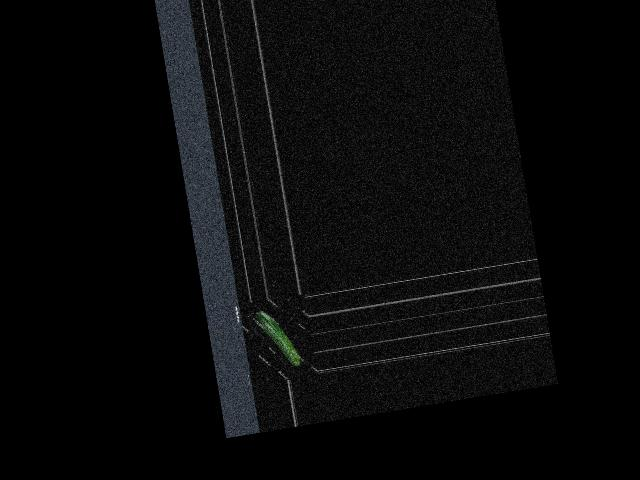cucumber: (253, 306, 301, 372)
